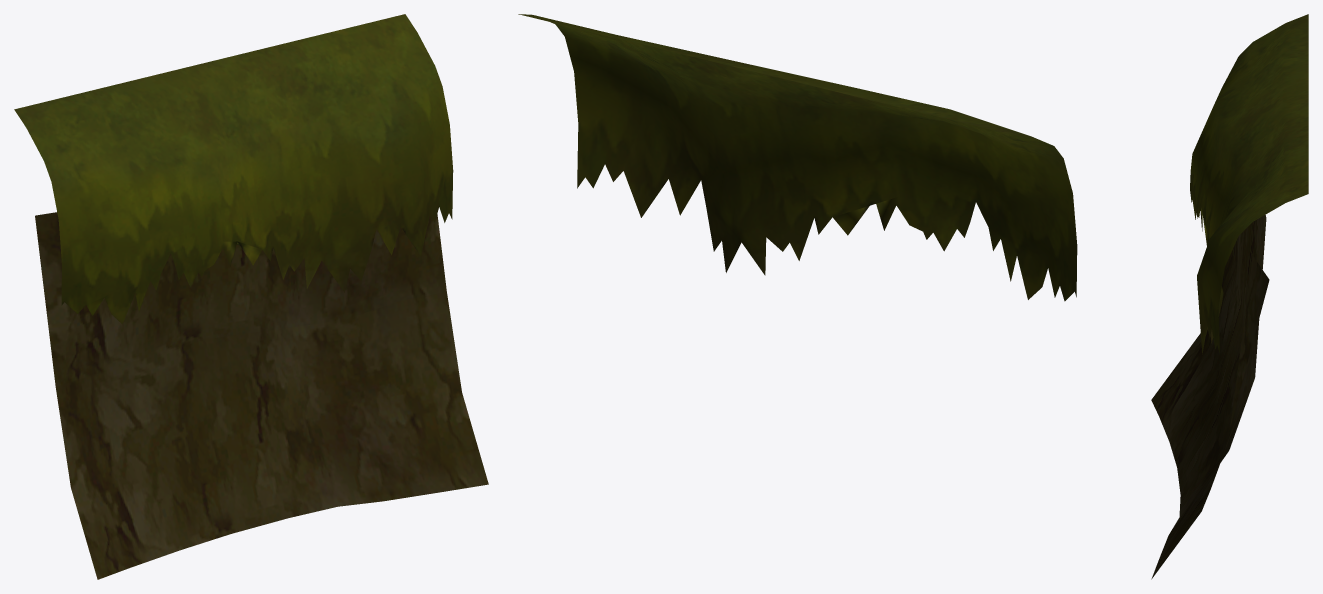
Rendered from lumina_trim_base4_p2_02.FBX.
3 views of the same model, side by side, from view 1: azimuth 30°, elevation 25°; view 2: azimuth 150°, elevation 25°; view 3: azimuth 270°, elevation 25° (orthographic). The views are drawn at different scales.
Visible parts, largest first — view 1: lumina_trim_base4_p2_02; view 2: lumina_trim_base4_p2_02; view 3: lumina_trim_base4_p2_02.
Part boxes in pixels (x1,y1,x2,y2): lumina_trim_base4_p2_02: (14,14,488,579); lumina_trim_base4_p2_02: (518,14,1077,301); lumina_trim_base4_p2_02: (1151,14,1308,579).
Bounding box in the file's own units: 4 × 4 × 1.48.
